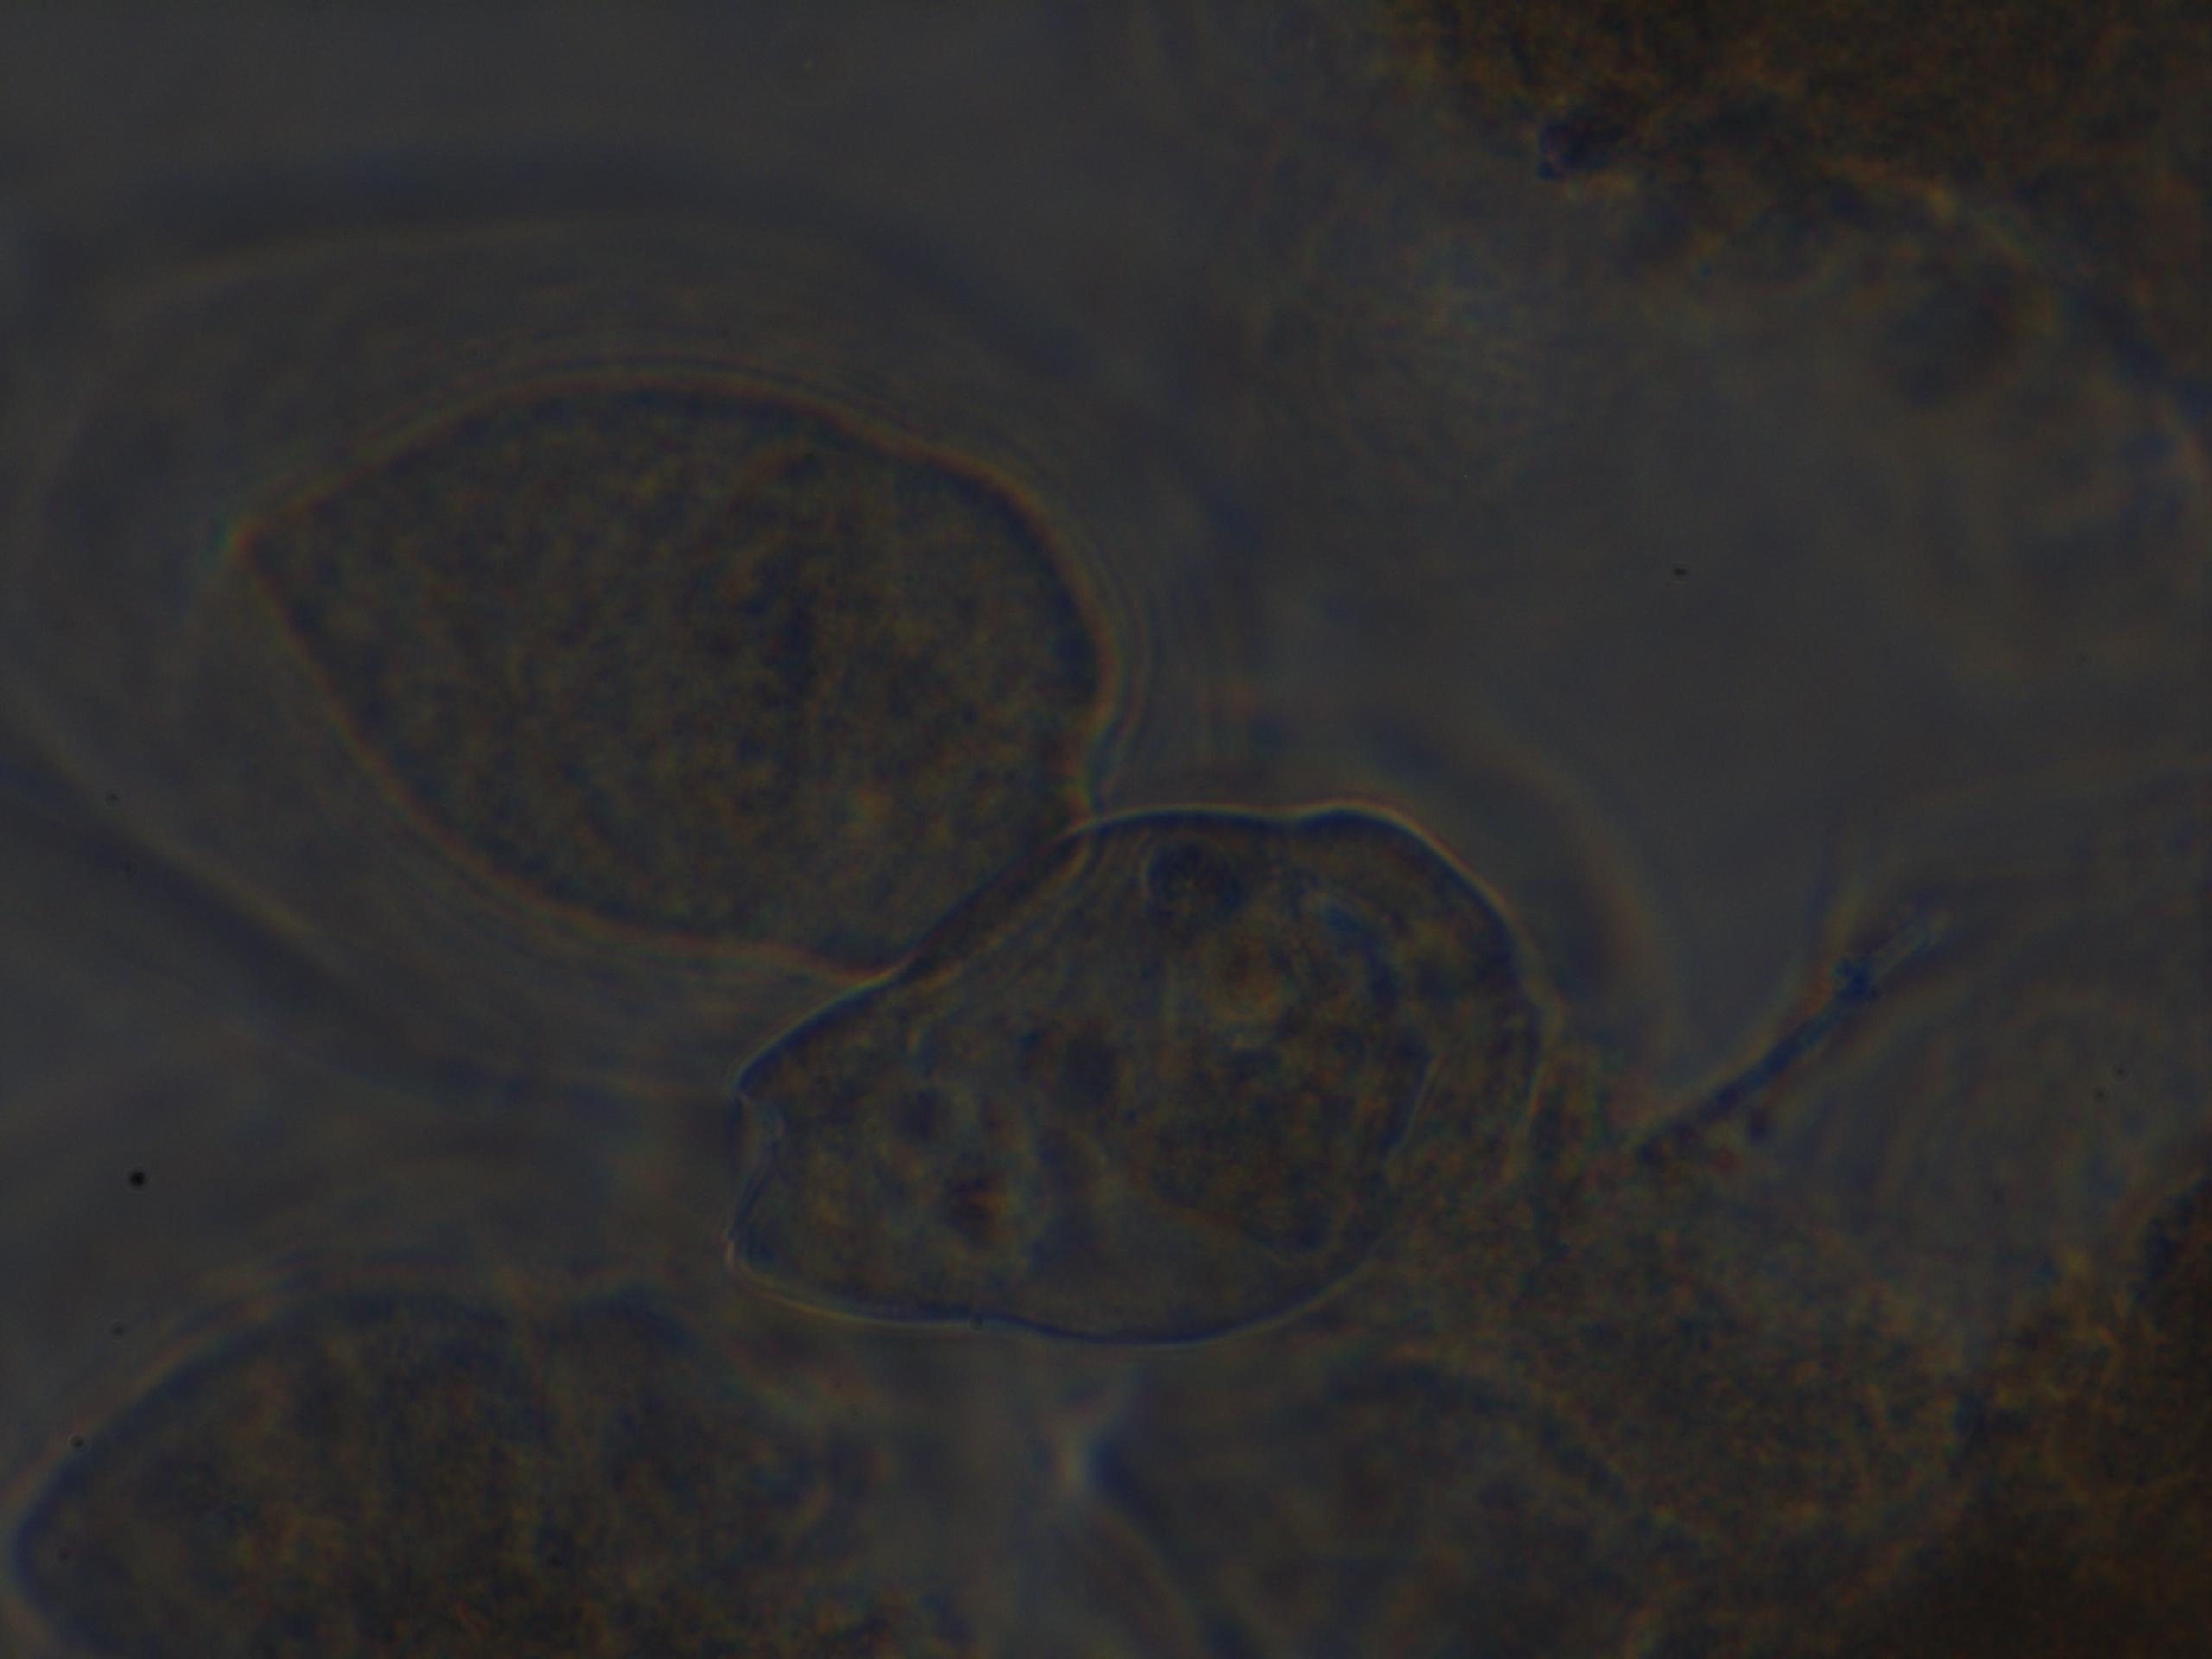protozoa: (0, 221, 1259, 1131), (620, 697, 1719, 1415)
